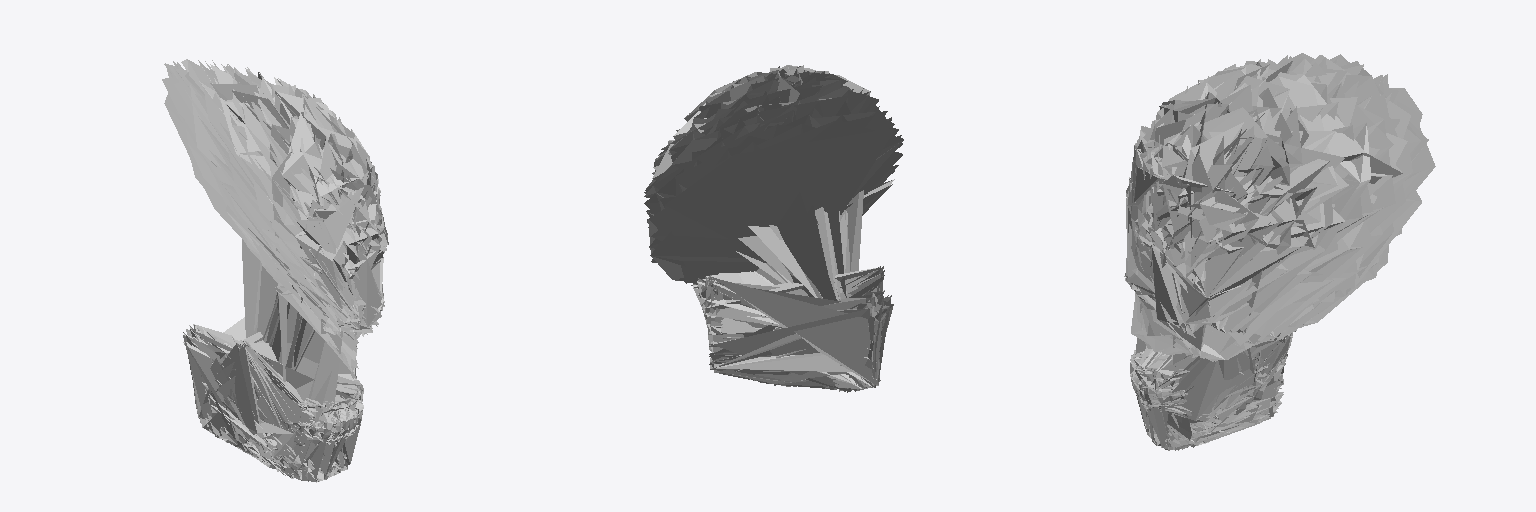
File: skull.obj
3 views of the same model, side by side, from view 1: azimuth 30°, elevation 25°; view 2: azimuth 150°, elevation 25°; view 3: azimuth 270°, elevation 25° (orthographic).
Visible parts, largest first — view 1: skull, lteeth; view 2: skull, jaw; view 3: skull, jaw, uteeth.
Boxes of the visible parts, x1=… form: skull: x1=162, y1=59, x2=388, y2=482; lteeth: x1=284, y1=412, x2=362, y2=438; skull: x1=644, y1=65, x2=903, y2=392; jaw: x1=694, y1=275, x2=775, y2=369; skull: x1=1124, y1=53, x2=1435, y2=450; jaw: x1=1135, y1=336, x2=1292, y2=444; uteeth: x1=1134, y1=333, x2=1292, y2=414.
Size of the model in its own units: 4.19 by 7.32 by 5.74.